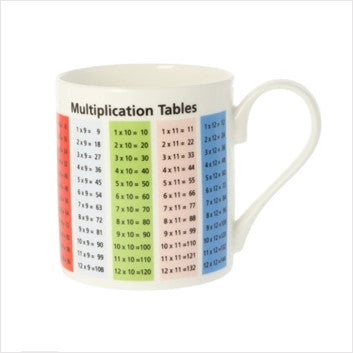cup: (54, 63, 320, 289)
